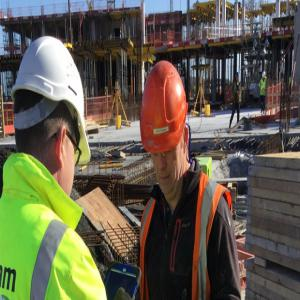blue: (236, 71, 241, 82)
red: (142, 63, 188, 200)
white: (15, 36, 87, 197), (263, 71, 267, 80)
